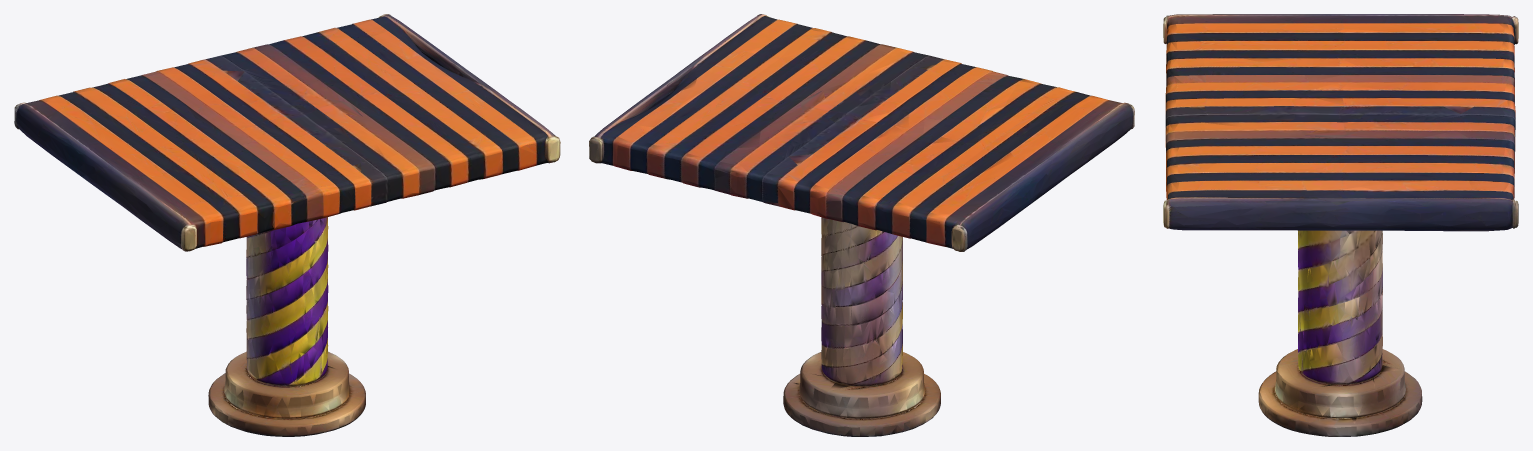
Rendered from platform_4.glb.
3 views of the same model, side by side, from view 1: azimuth 30°, elevation 25°; view 2: azimuth 150°, elevation 25°; view 3: azimuth 270°, elevation 25° (orthographic). The views are drawn at different scales.
Parts seen in each view (by area): view 1: tripo_node_c6080a7d-4f54-4b89-b648-af592e5238e5; view 2: tripo_node_c6080a7d-4f54-4b89-b648-af592e5238e5; view 3: tripo_node_c6080a7d-4f54-4b89-b648-af592e5238e5.
Part boxes in pixels (<box>): tripo_node_c6080a7d-4f54-4b89-b648-af592e5238e5: <box>14,14,560,436</box>; tripo_node_c6080a7d-4f54-4b89-b648-af592e5238e5: <box>589,14,1134,436</box>; tripo_node_c6080a7d-4f54-4b89-b648-af592e5238e5: <box>1163,14,1518,436</box>.
Bounding box in the file's own units: 0.9795 × 0.7091 × 0.7675.
Materials: 1 (1 with a texture image).
